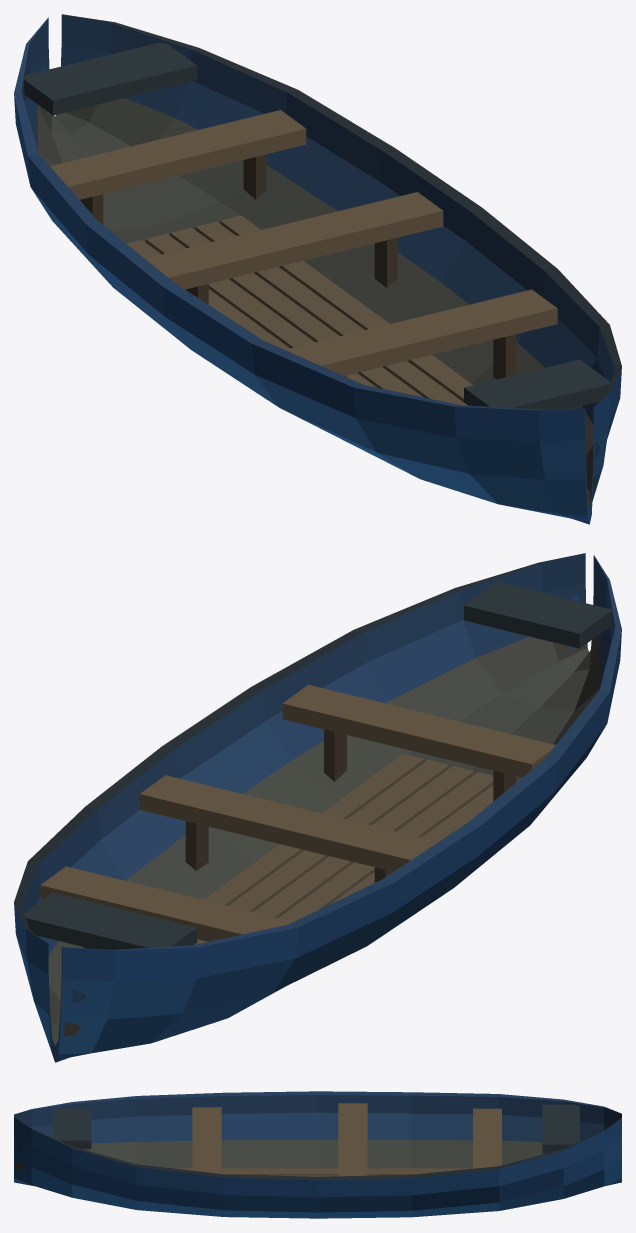
Rendered from moored-blue-sampan.glb.
3 views of the same model, one above another, from view 1: azimuth 30°, elevation 25°; view 2: azimuth 150°, elevation 25°; view 3: azimuth 270°, elevation 25° (orthographic). The views are drawn at different scales.
Parts seen in each view (by area): view 1: moored-blue-sampan; view 2: moored-blue-sampan; view 3: moored-blue-sampan.
Boxes of the visible parts, bbox=[...] form: moored-blue-sampan: bbox=[14, 14, 621, 524]; moored-blue-sampan: bbox=[14, 553, 621, 1062]; moored-blue-sampan: bbox=[14, 1091, 621, 1218].
Size of the model in its own units: 1.8 by 0.82 by 5.2.
